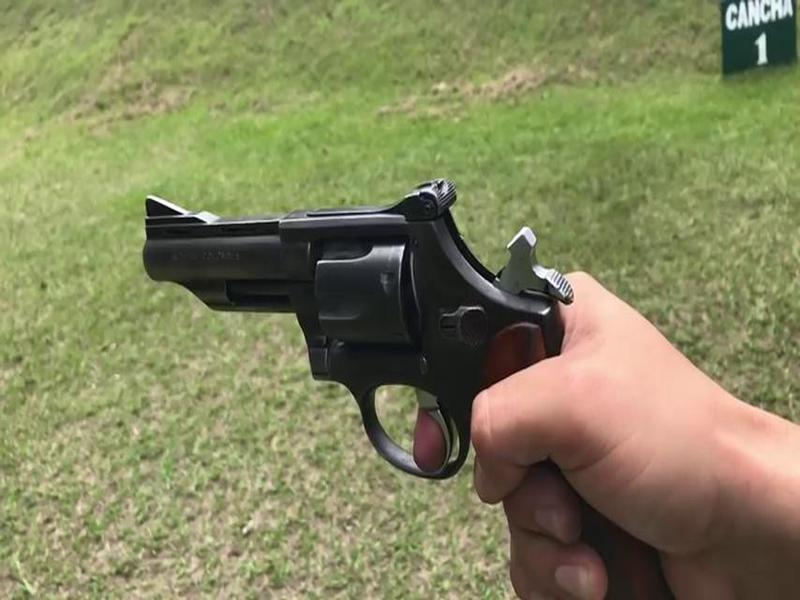Revolver: (137, 152, 587, 498)
